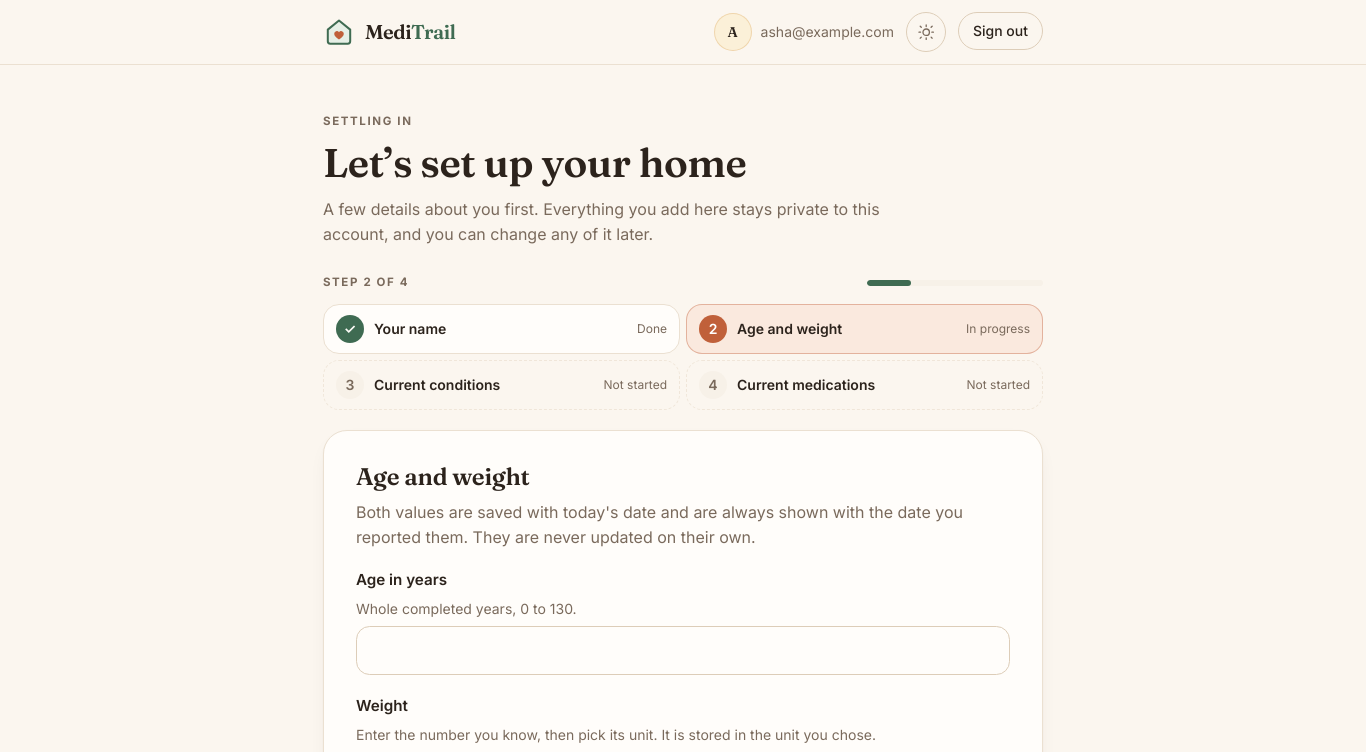
OnboardingWizard › keeps an invalid age on the step and sends nothing
Expected: the heading "Age and weight" is shown, [356,462,530,491]
Type "34.5" into the field labelled "Age in years". click: (683, 651)
box: [356,626,1010,675]
(page scrolled)
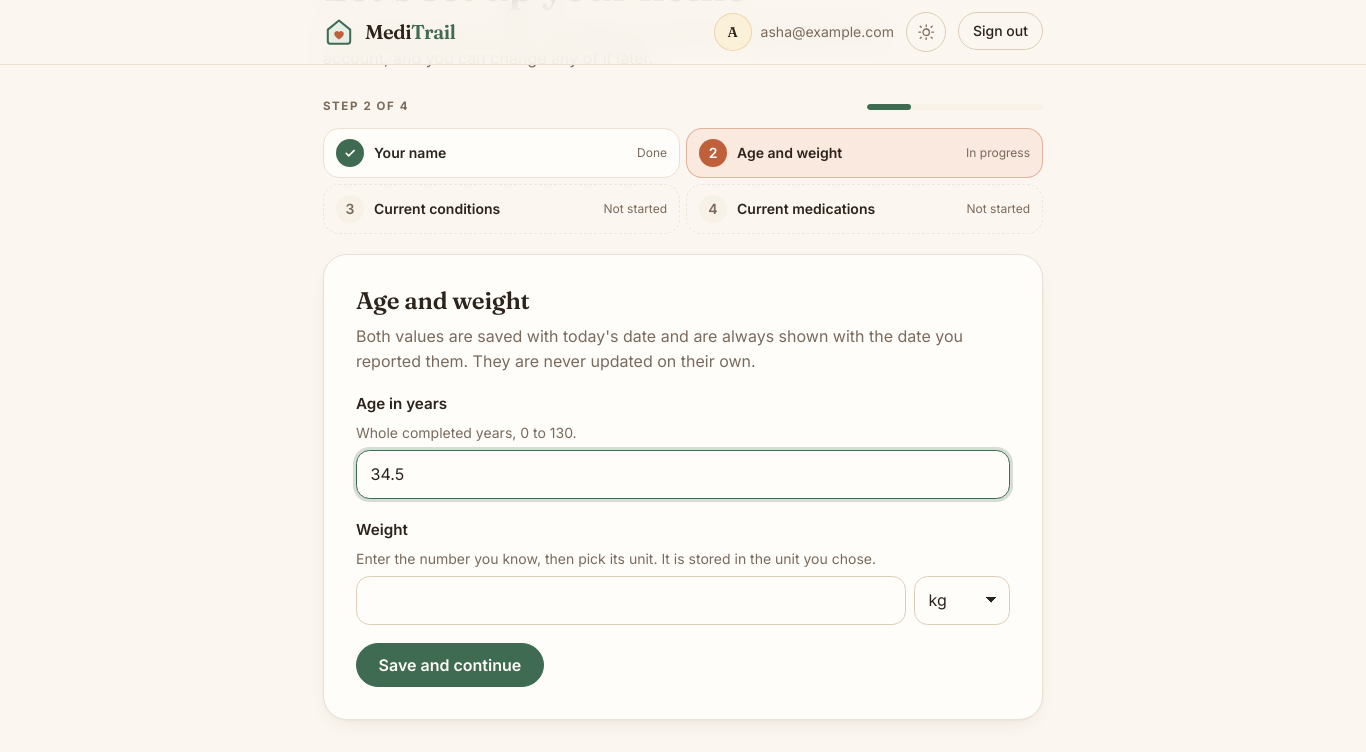
Type "61.5" into the field labelled "Weight". click: (631, 600)
box: [356,576,906,625]
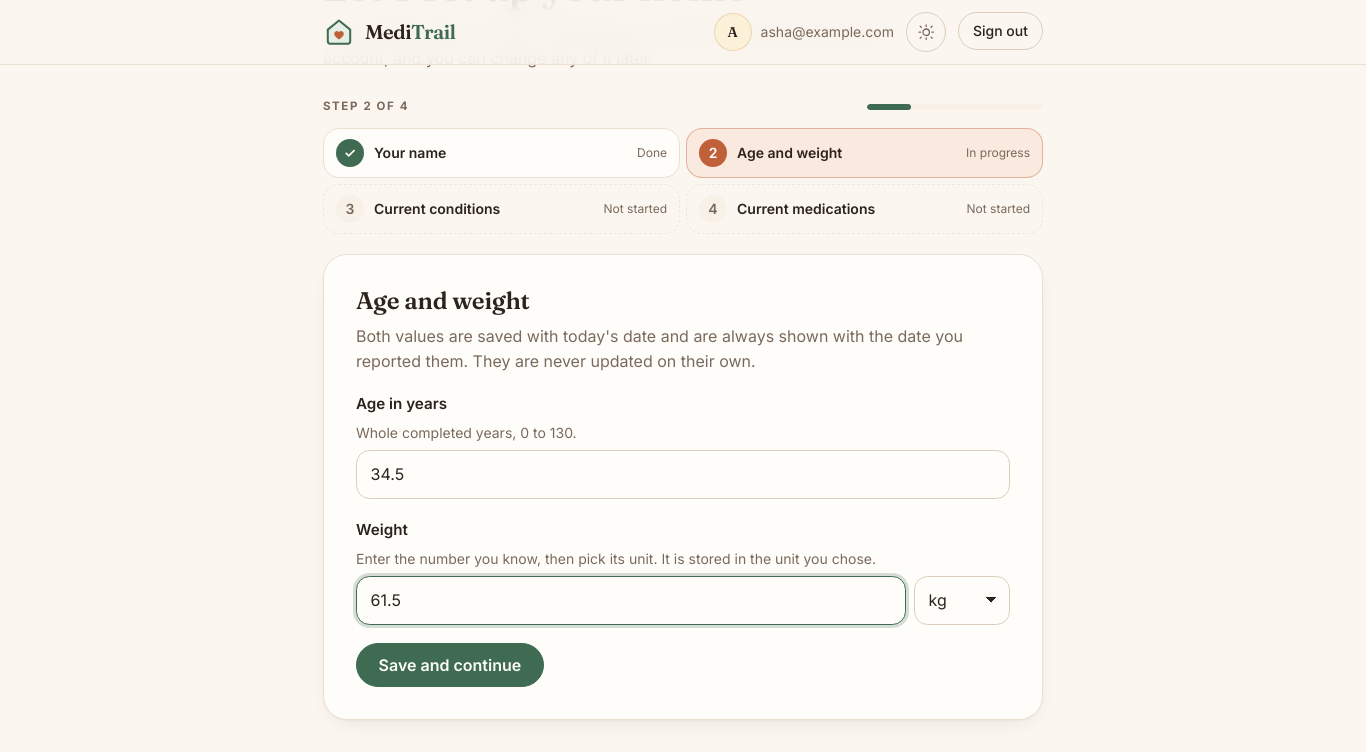
Click the button "Save and continue". click: (450, 665)
box: [356,643,544,687]
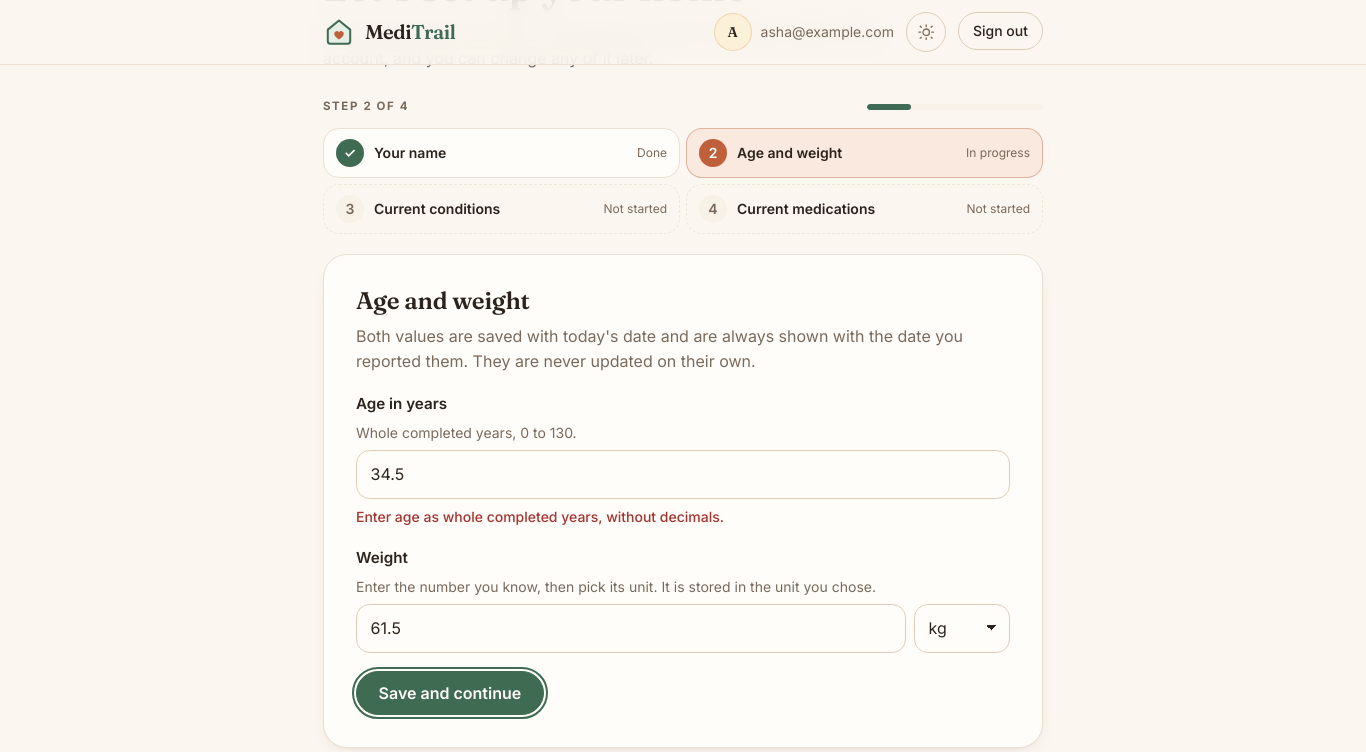
Expected: the text "Enter age as whole completed years, without decimals." is shown, [356,508,724,525]
